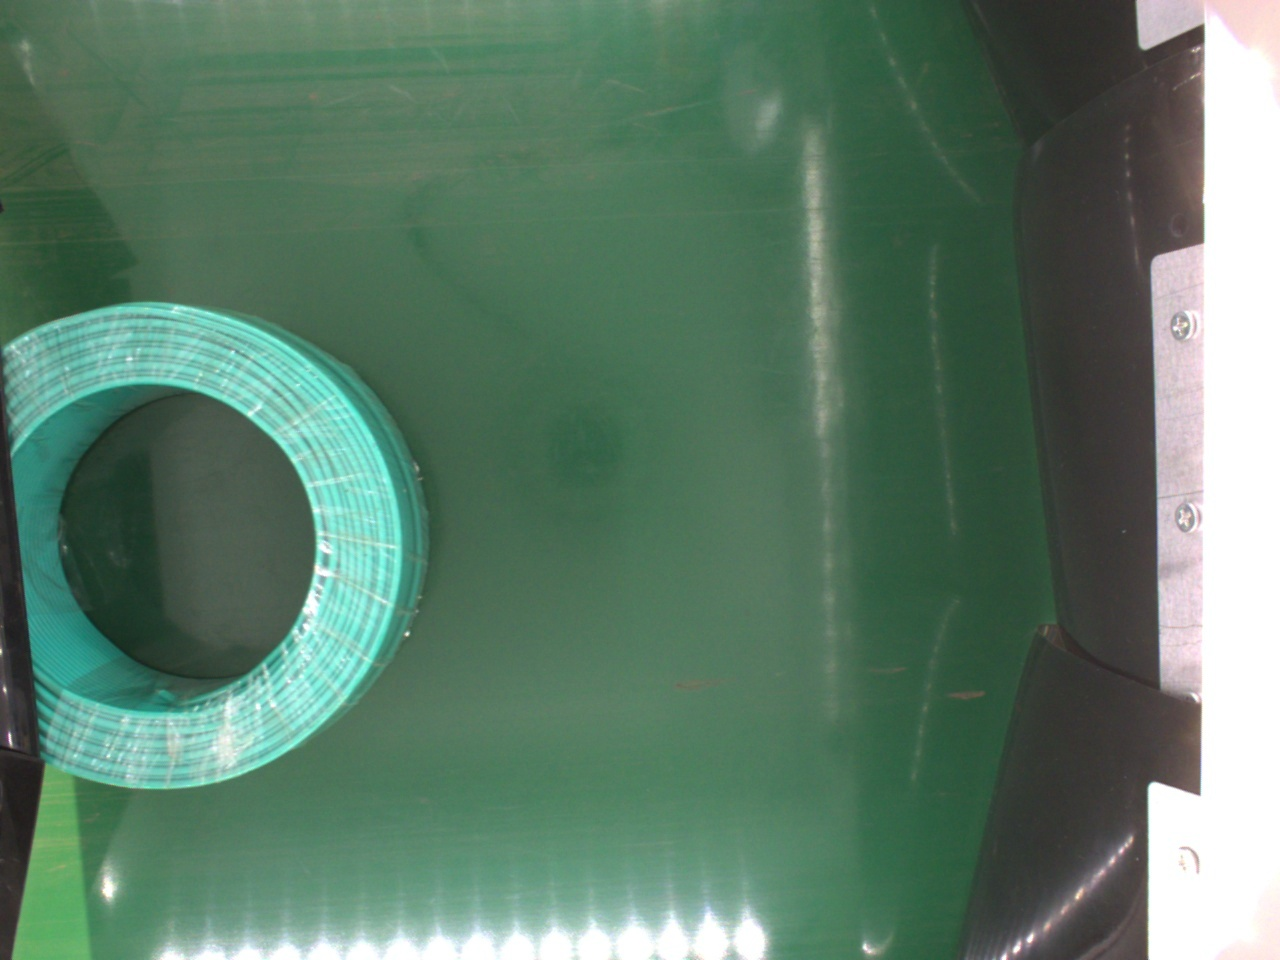green: (8, 298, 430, 795)
